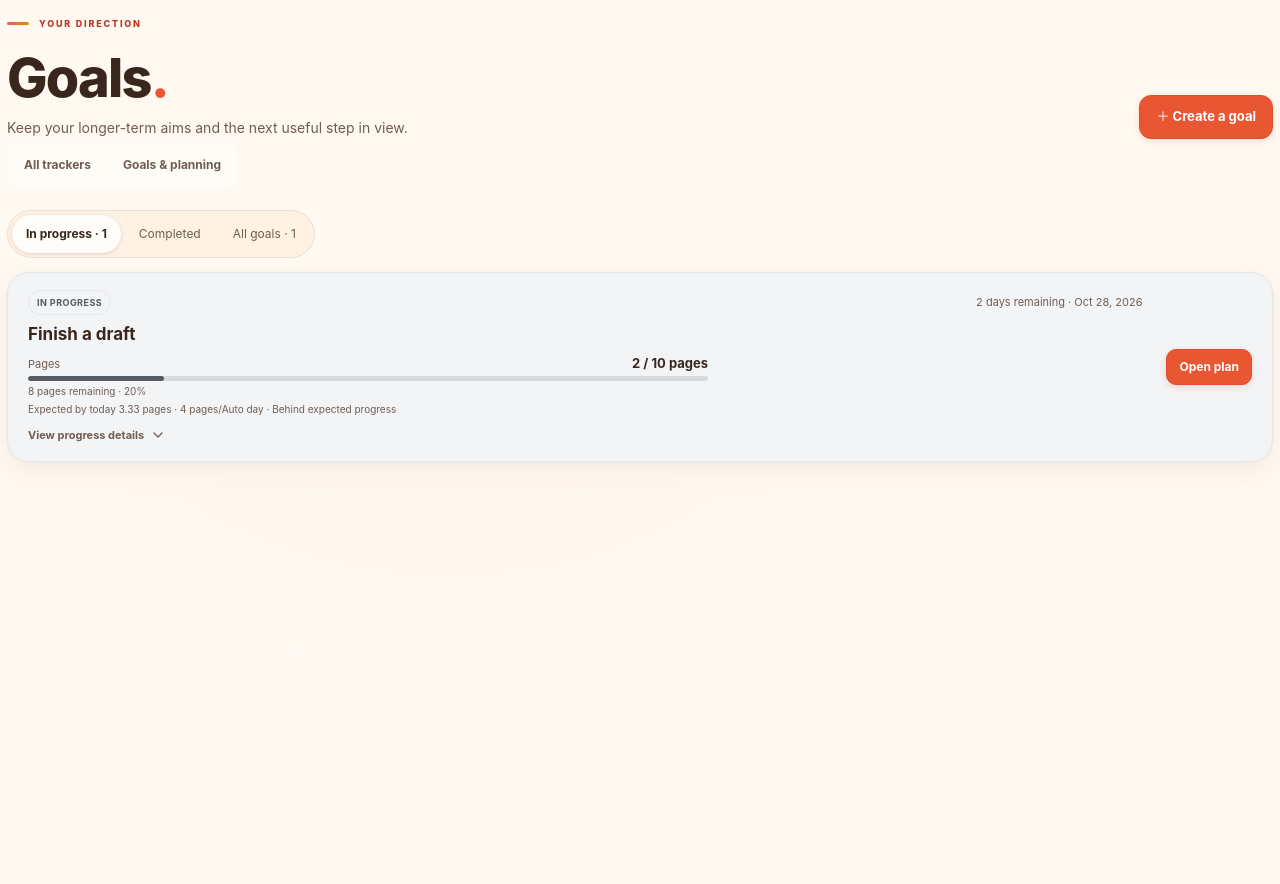
Test: Goals page allocation preview › exposes an unsaved preview without changing the stored plan or check-ins
The image size is (1280, 884).
Click the button "Finish a draft": coordinates (585, 367) [8,272,1162,461]
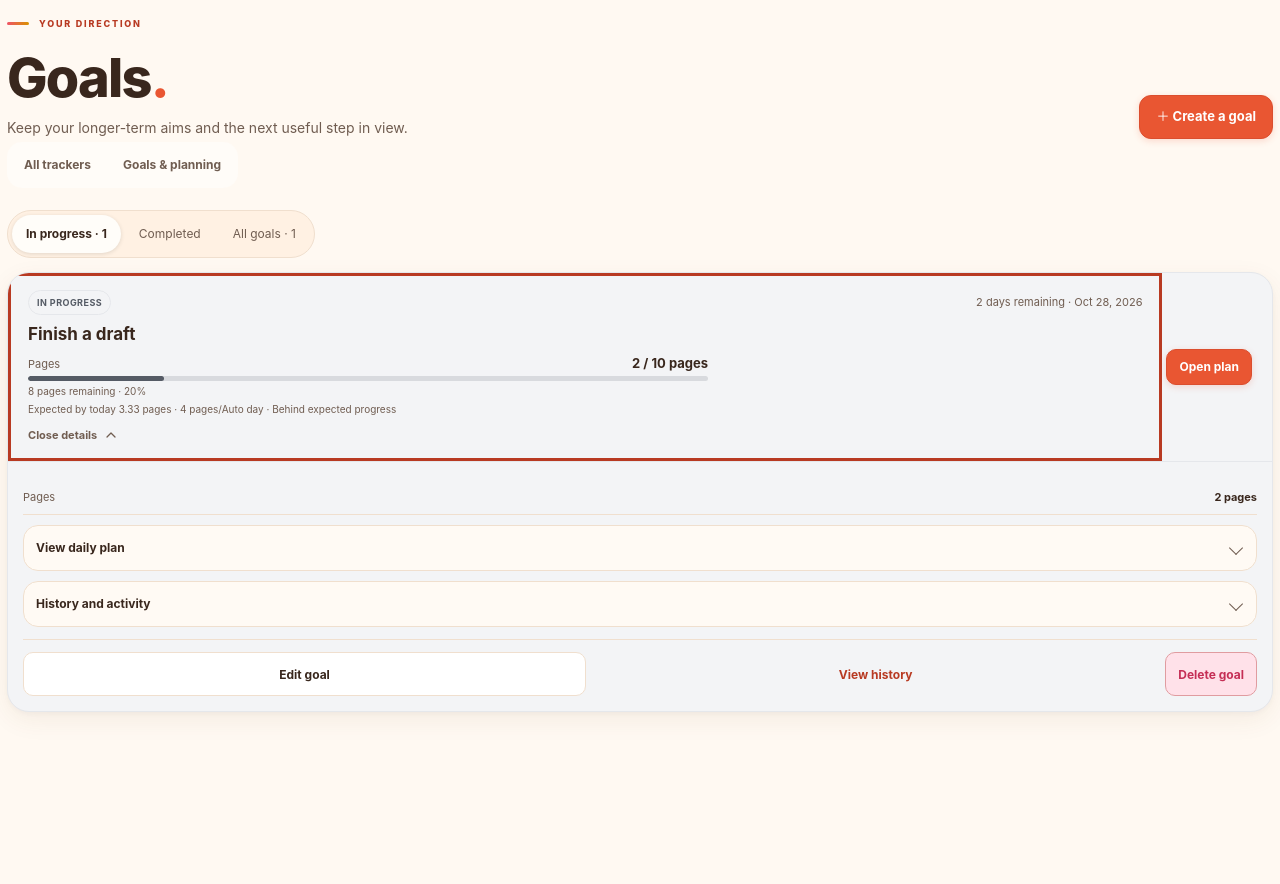
Click the heading "View daily plan": coordinates (80, 548) [36,540,125,555]
(page scrolled)
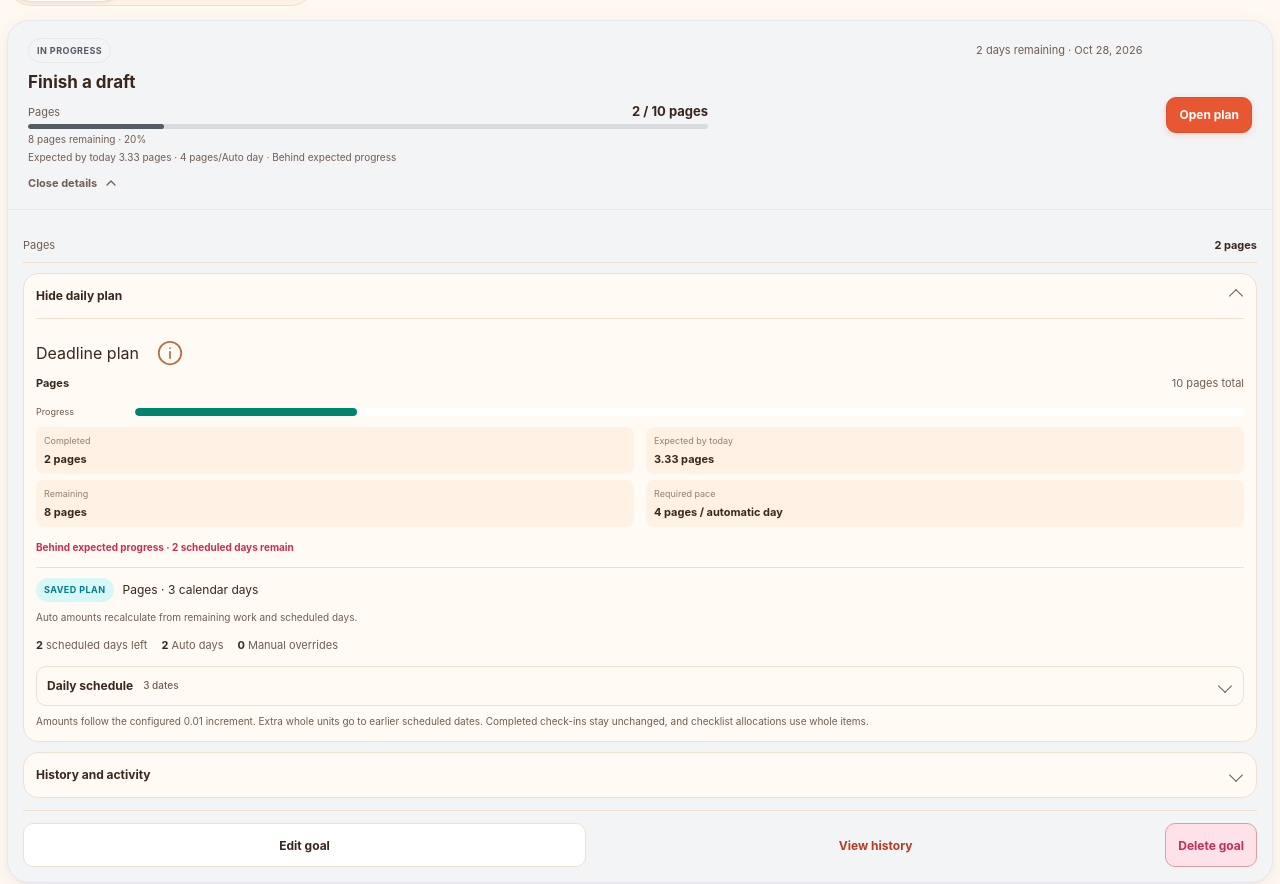
Click the heading "Daily schedule 3 dates": coordinates (90, 685) [36,666,1244,706]
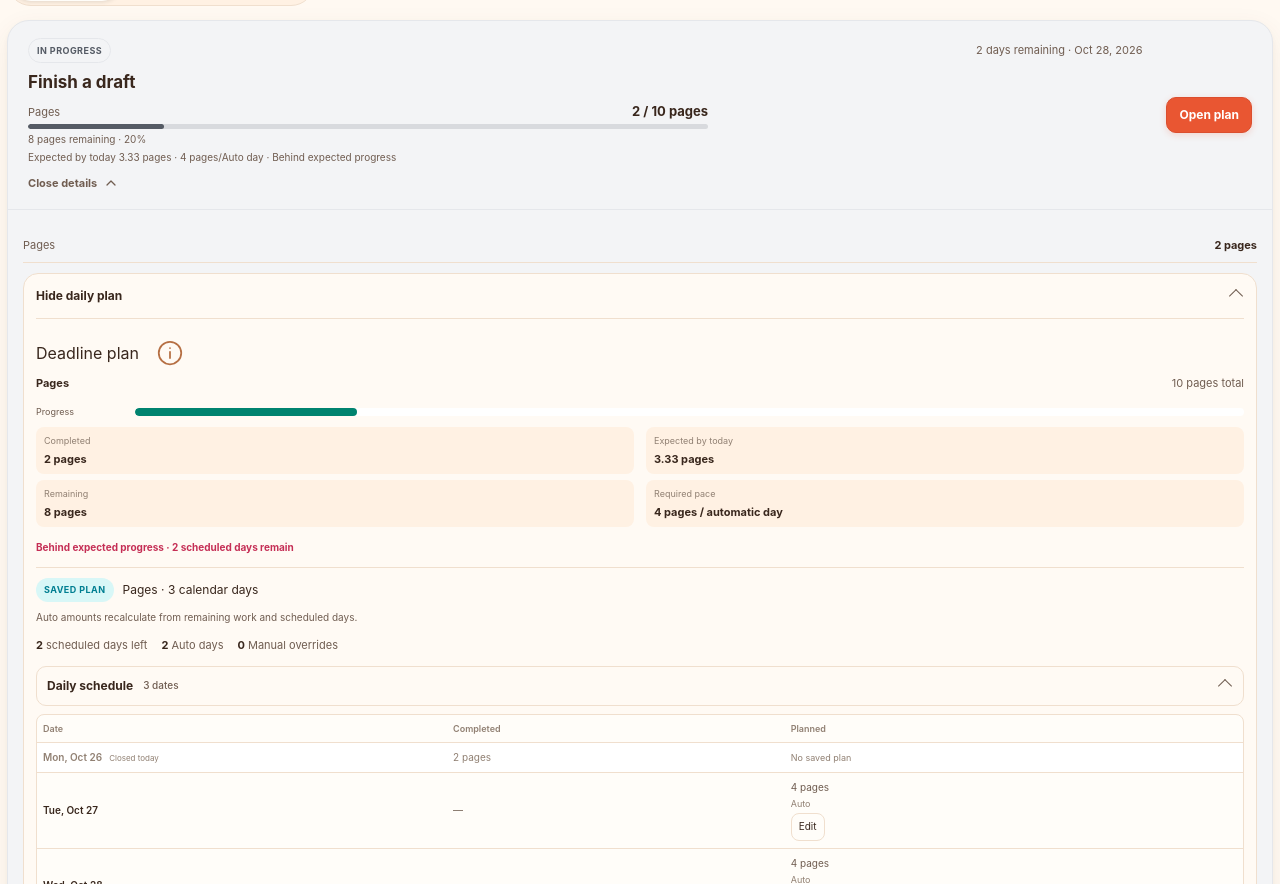
Click the button "Edit" in the row of "Tue, Oct 27": coordinates (808, 826) [791,812,824,840]
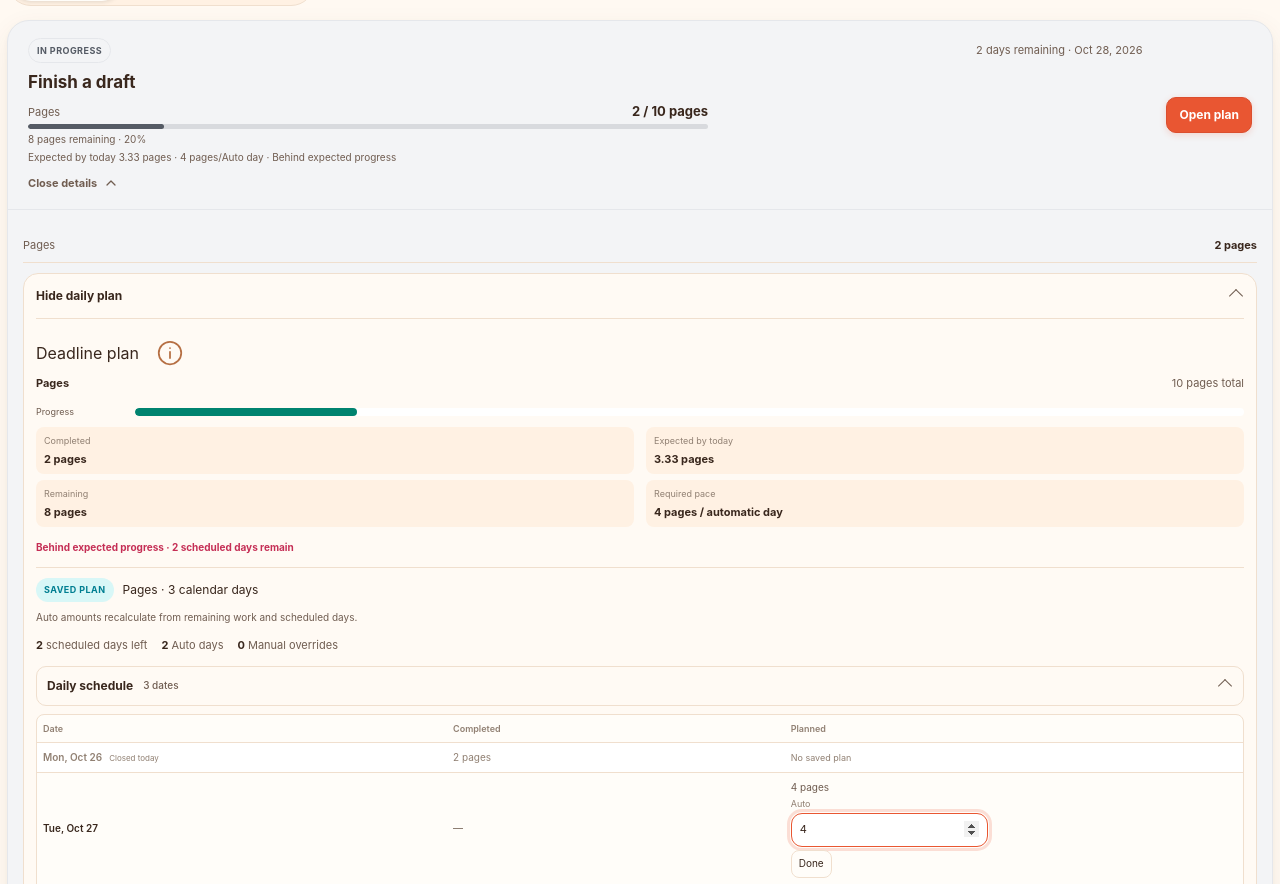
Replace the text in the number field named "Planned allocation for 2026-10-27" with "0": coordinates (889, 830) [791,812,988,846]
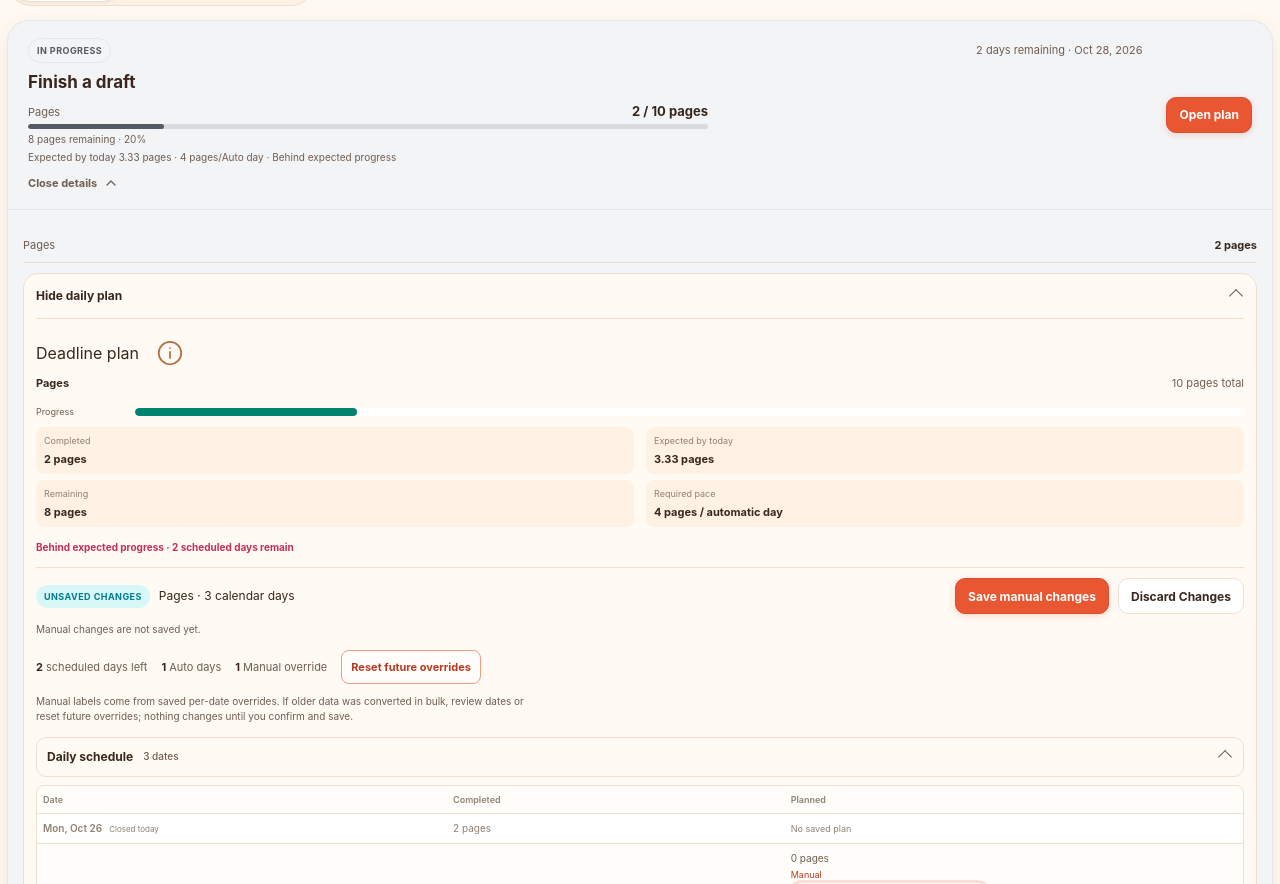
Check: the text "UNSAVED CHANGES" is shown, box [36,584,150,608]
